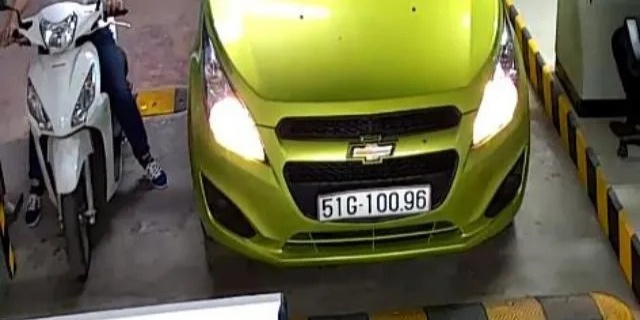bien_so: (318, 188, 430, 220)
